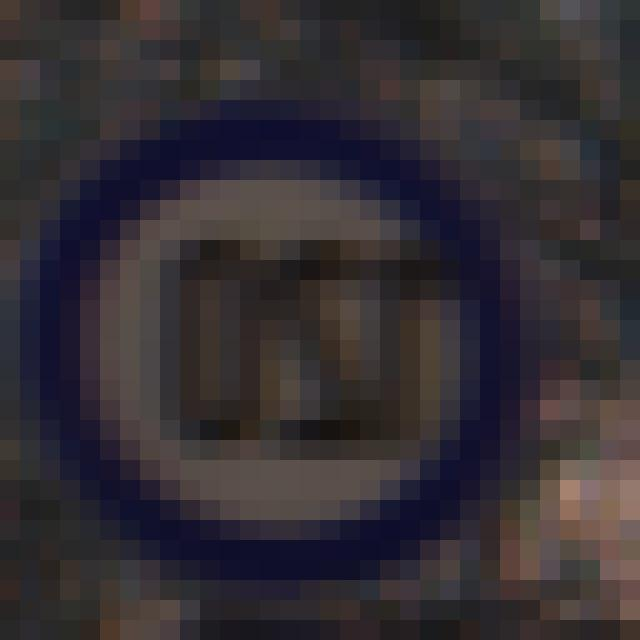SPEED LIMIT 120: (26, 119, 522, 568)
